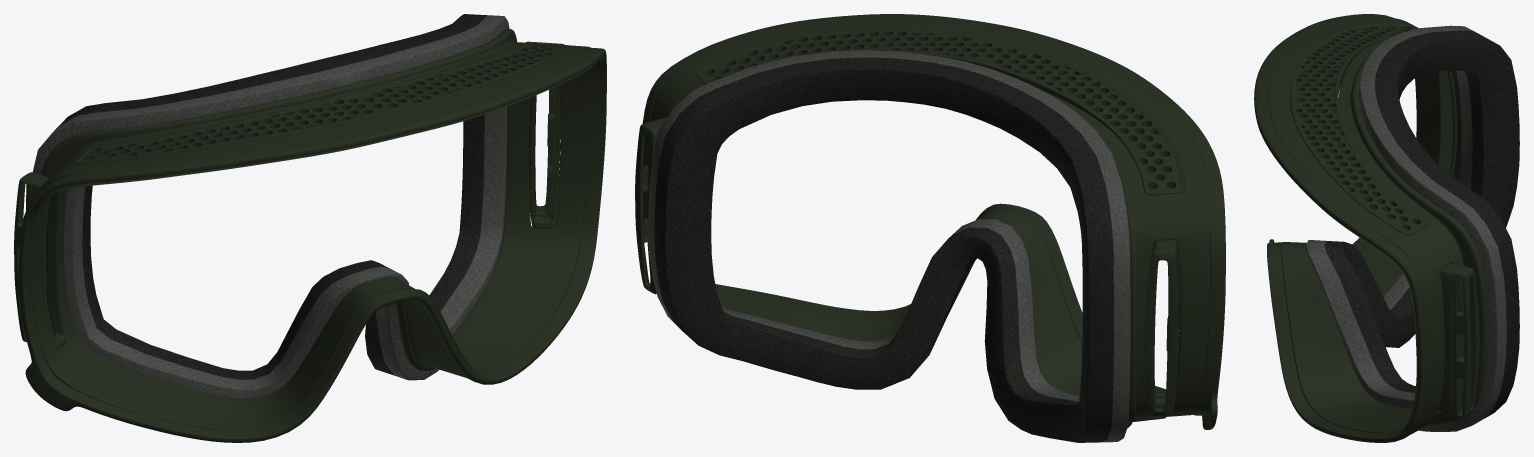
File: FRAME_Virgo_MOVI017_002.glb
The picture shows the model from 3 angles, left to right: view 1: azimuth 30°, elevation 25°; view 2: azimuth 150°, elevation 25°; view 3: azimuth 270°, elevation 25°; orthographic projection. The views are drawn at different scales.
Parts seen in each view (by area): view 1: Full_rim_geometry, Frame-Add_Frame-01_geometry_geometry, Frame-Add_Frame-03_geometry_geometry, EXTRA_RIM_BEVEL, Frame-Add_Frame-02_geometry_geometry; view 2: Frame-Add_Frame-01_geometry_geometry, Full_rim_geometry, Frame-Add_Frame-03_geometry_geometry, Frame-Add_Frame-02_geometry_geometry, EXTRA_RIM_BEVEL; view 3: Full_rim_geometry, Frame-Add_Frame-01_geometry_geometry, Frame-Add_Frame-03_geometry_geometry, Frame-Add_Frame-02_geometry_geometry, EXTRA_RIM_BEVEL.
Part boxes in pixels (left/top/right/bottom): Full_rim_geometry: left=19, top=29, right=606, bottom=442; Frame-Add_Frame-01_geometry_geometry: left=33, top=14, right=509, bottom=398; Frame-Add_Frame-03_geometry_geometry: left=75, top=41, right=564, bottom=164; EXTRA_RIM_BEVEL: left=25, top=56, right=603, bottom=437; Frame-Add_Frame-02_geometry_geometry: left=14, top=85, right=560, bottom=349; Frame-Add_Frame-01_geometry_geometry: left=648, top=50, right=1165, bottom=442; Full_rim_geometry: left=642, top=14, right=1225, bottom=429; Frame-Add_Frame-03_geometry_geometry: left=696, top=28, right=1184, bottom=195; Frame-Add_Frame-02_geometry_geometry: left=635, top=117, right=1179, bottom=416; EXTRA_RIM_BEVEL: left=715, top=203, right=1165, bottom=392; Full_rim_geometry: left=1254, top=14, right=1488, bottom=442; Frame-Add_Frame-01_geometry_geometry: left=1305, top=25, right=1519, bottom=431; Frame-Add_Frame-03_geometry_geometry: left=1289, top=23, right=1428, bottom=235; Frame-Add_Frame-02_geometry_geometry: left=1438, top=70, right=1479, bottom=417; EXTRA_RIM_BEVEL: left=1269, top=76, right=1421, bottom=437.
Size of the model in its own units: 0.1891 by 0.1017 by 0.084.
Materials: 1 (1 with a texture image).
